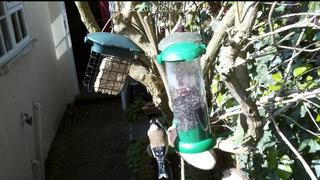goldfinch: (147, 117, 169, 179)
